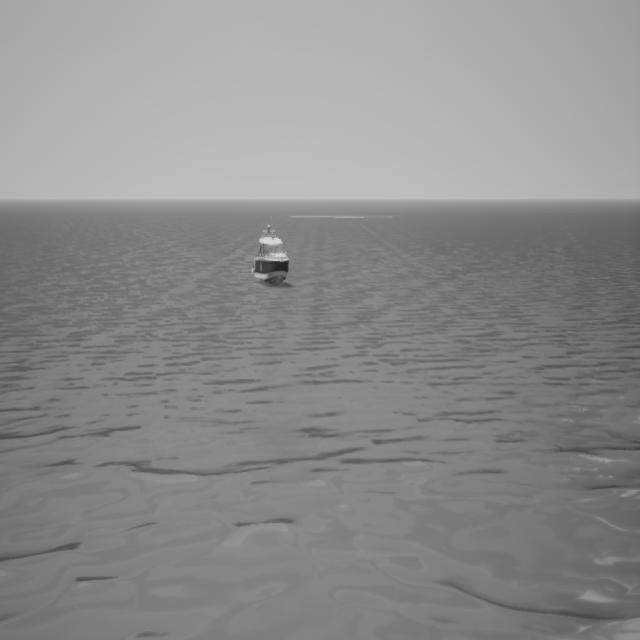ship: (253, 222, 292, 284)
